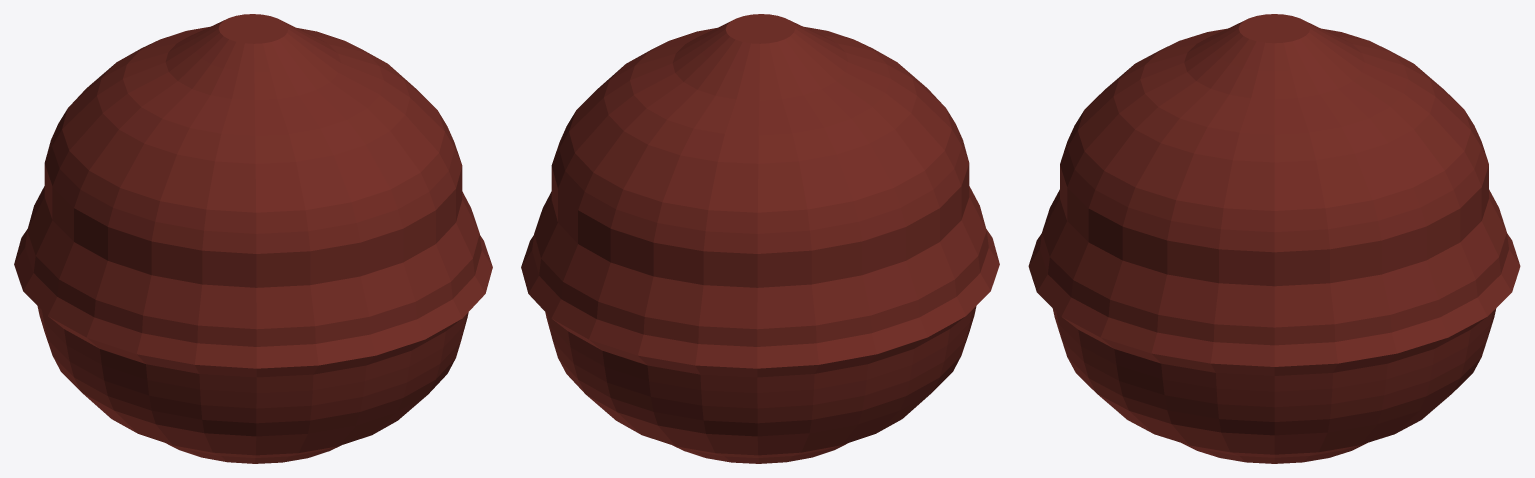
File: result.glb
3 views of the same model, side by side, from view 1: azimuth 30°, elevation 25°; view 2: azimuth 150°, elevation 25°; view 3: azimuth 270°, elevation 25° (orthographic).
Size of the model in its own units: 1.27 by 1.2 by 1.31.
